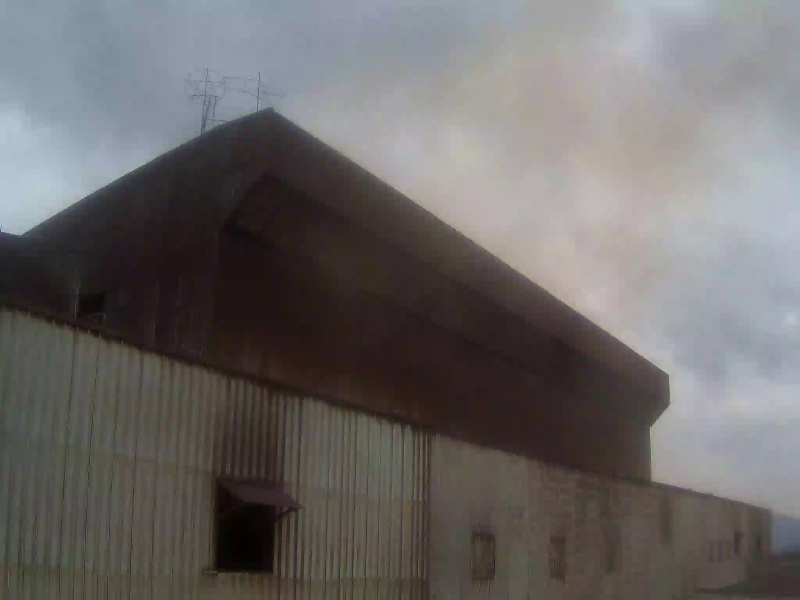bom: (1, 2, 274, 268)
ruim: (327, 6, 671, 330)
